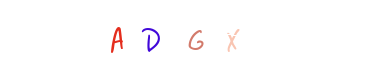A: (104, 0, 184, 80)
D: (111, 0, 191, 80)
G: (145, 0, 225, 80)
X: (148, 0, 228, 80)
